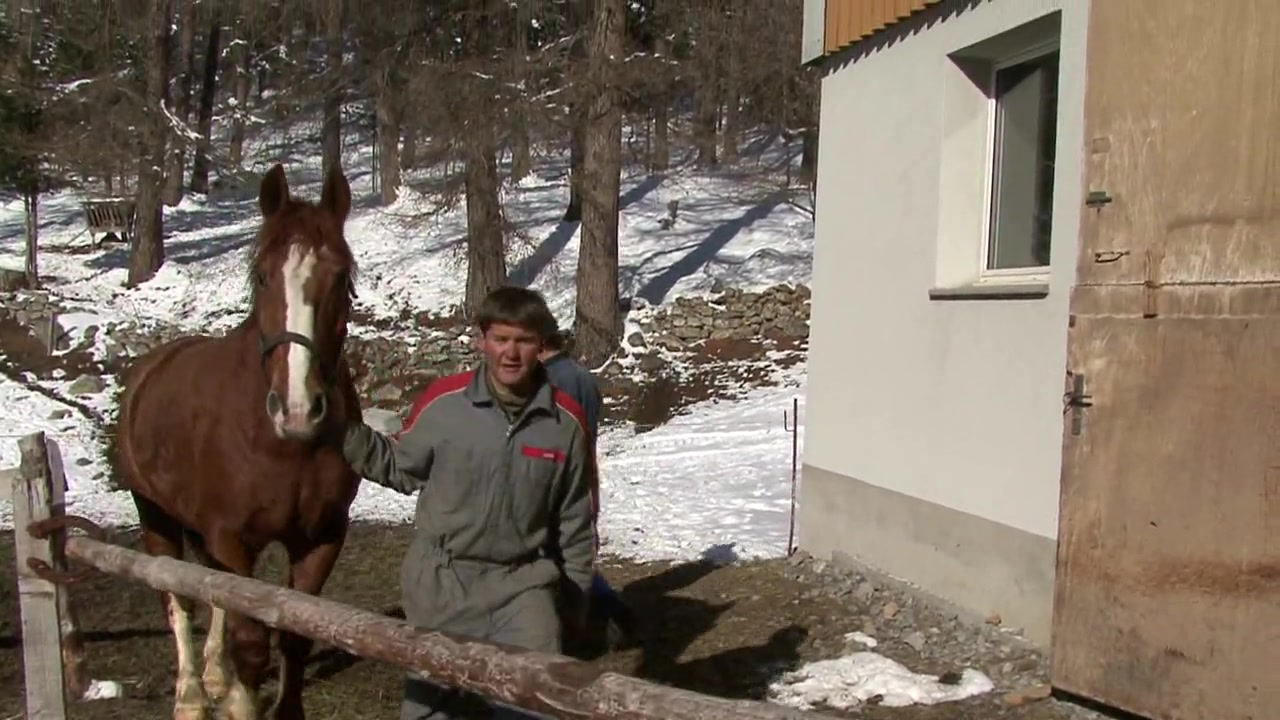horse: (120, 163, 367, 720)
